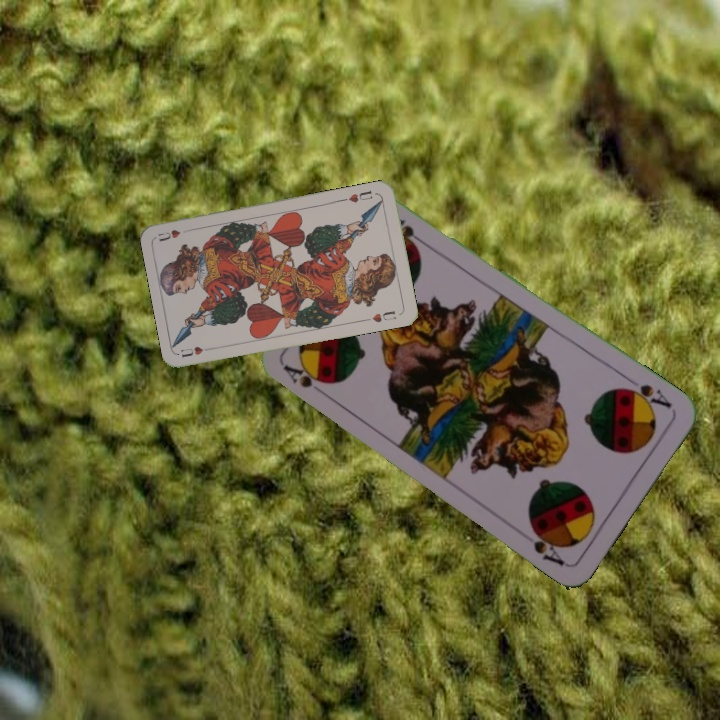HU: (177, 342, 217, 360), (345, 186, 375, 205)
SA: (618, 380, 674, 412), (279, 361, 329, 391)
